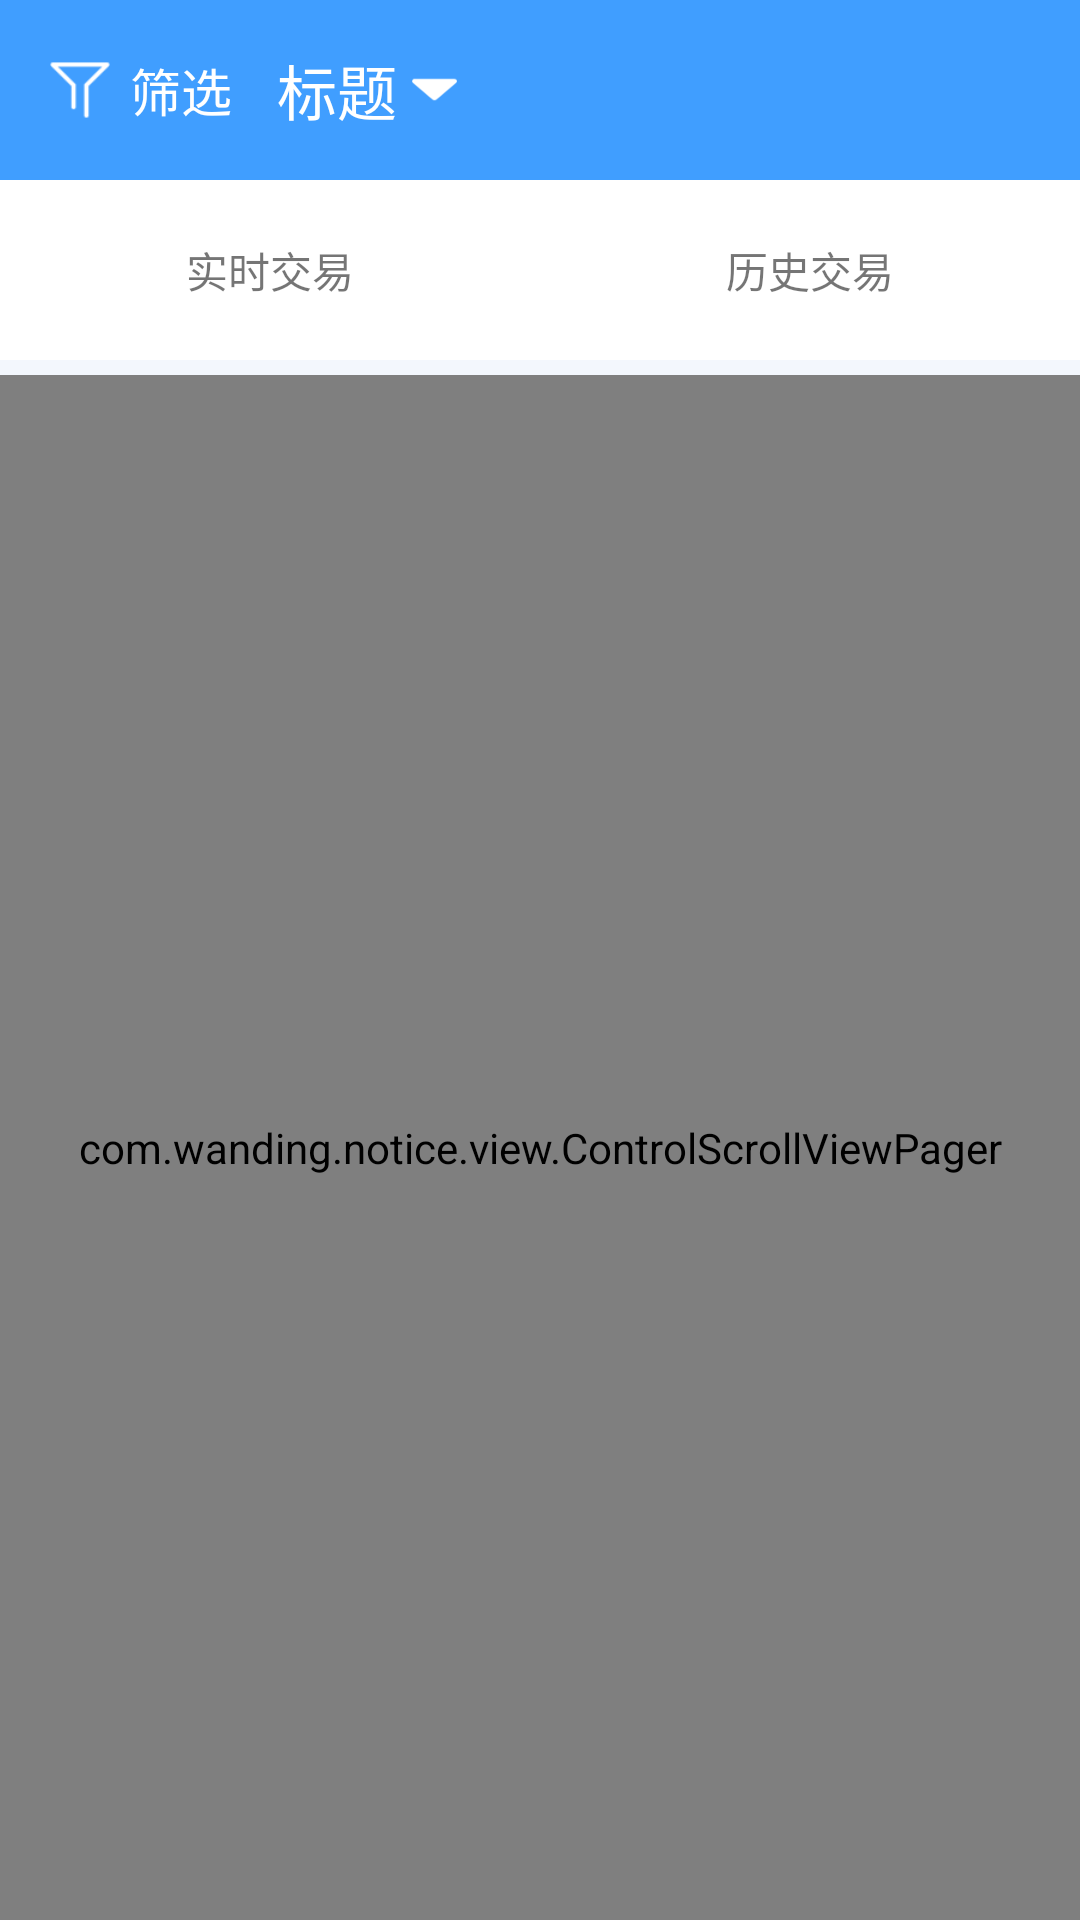

Screen size 1080px×1920px. Icon name, then its center in pixels as point (x, y):
down arrow: point (434, 89)
